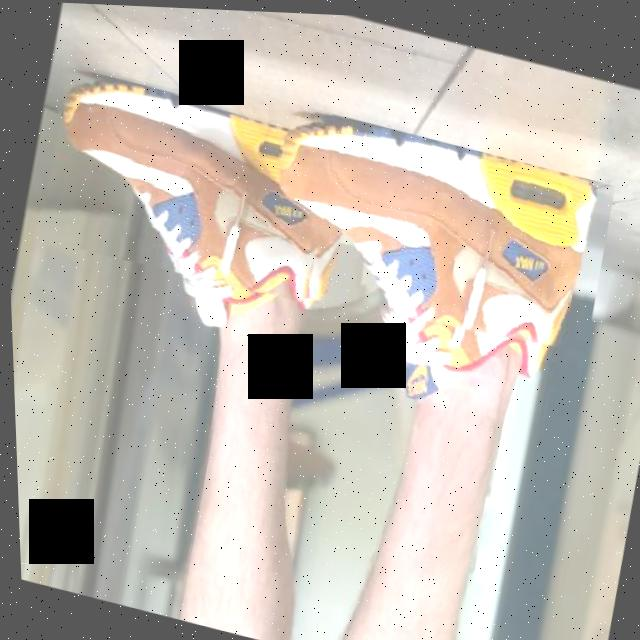shoe: (250, 99, 619, 366), (29, 70, 346, 307)
